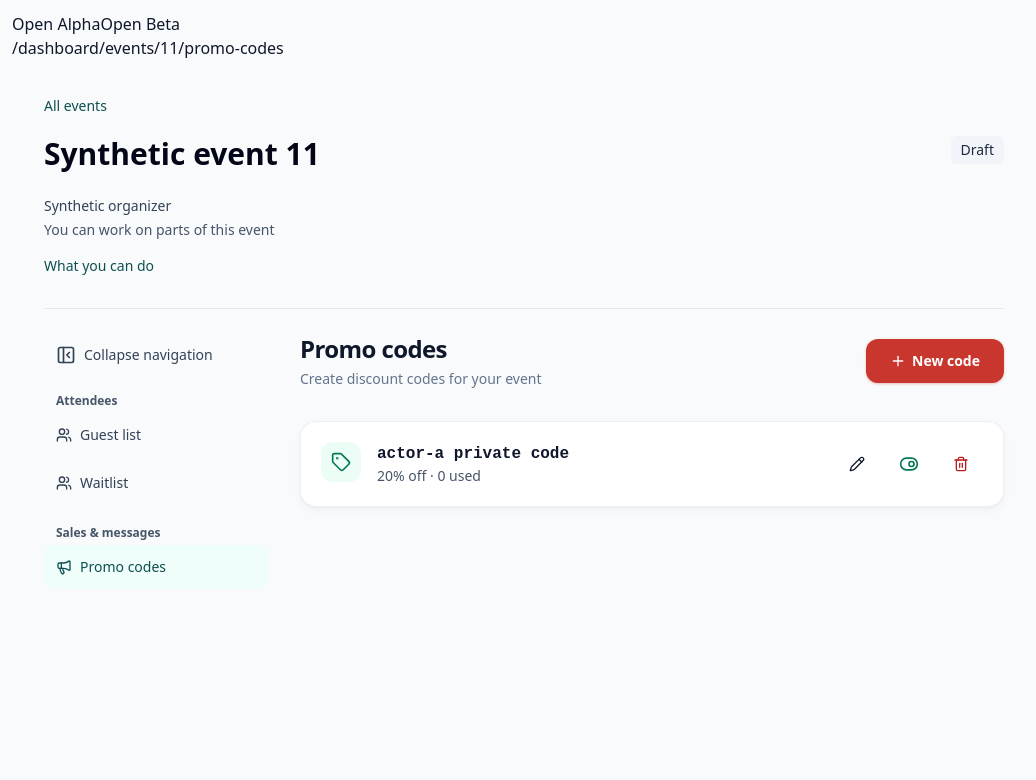
withdraws an earlier write across a session replacement
Click the button named "Deactivate promo code": (909, 464) x1=887 y1=442 x2=931 y2=486
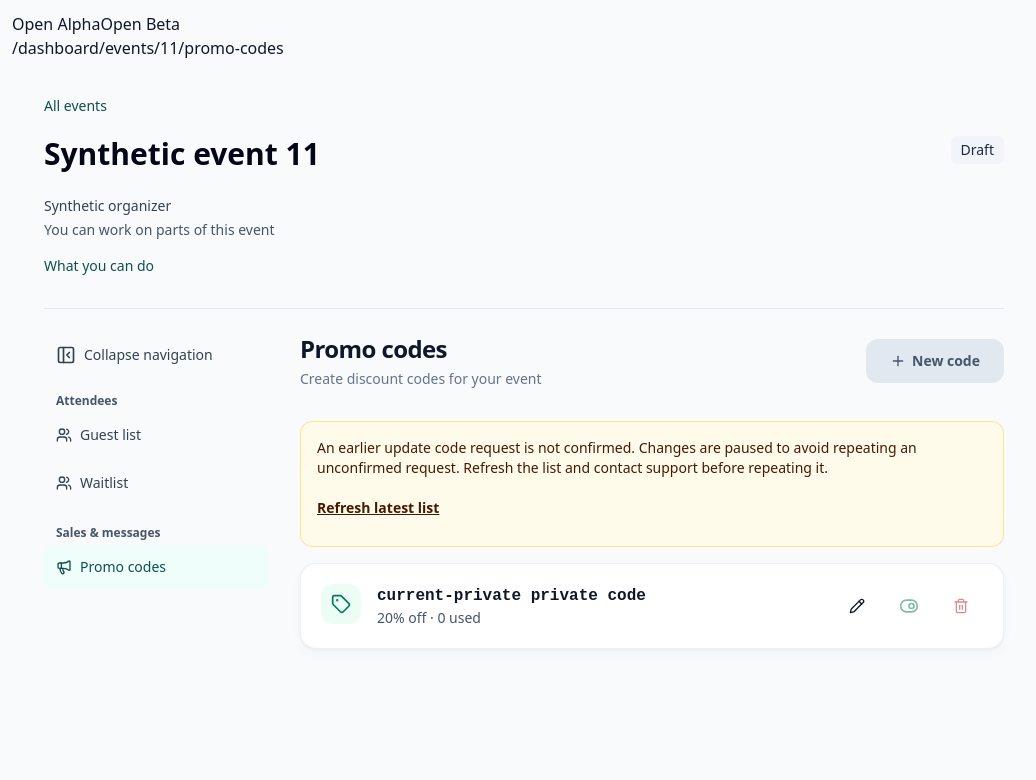
Result: the text "actor-a private" is gone
